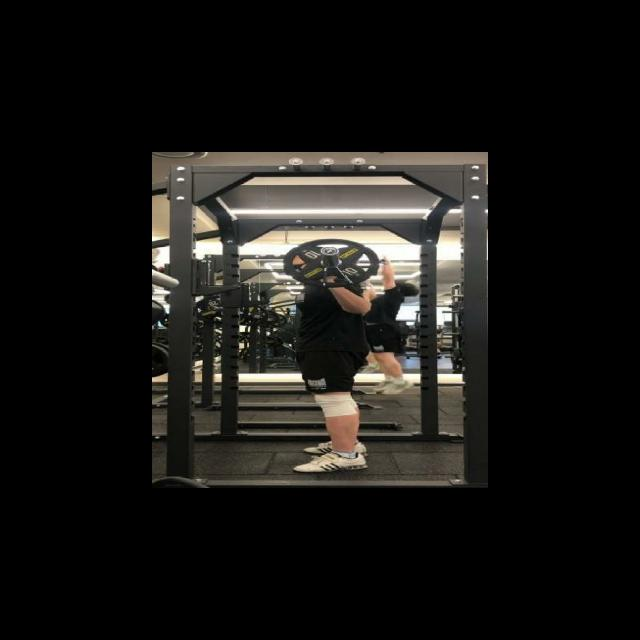barbell: (282, 236, 380, 289)
